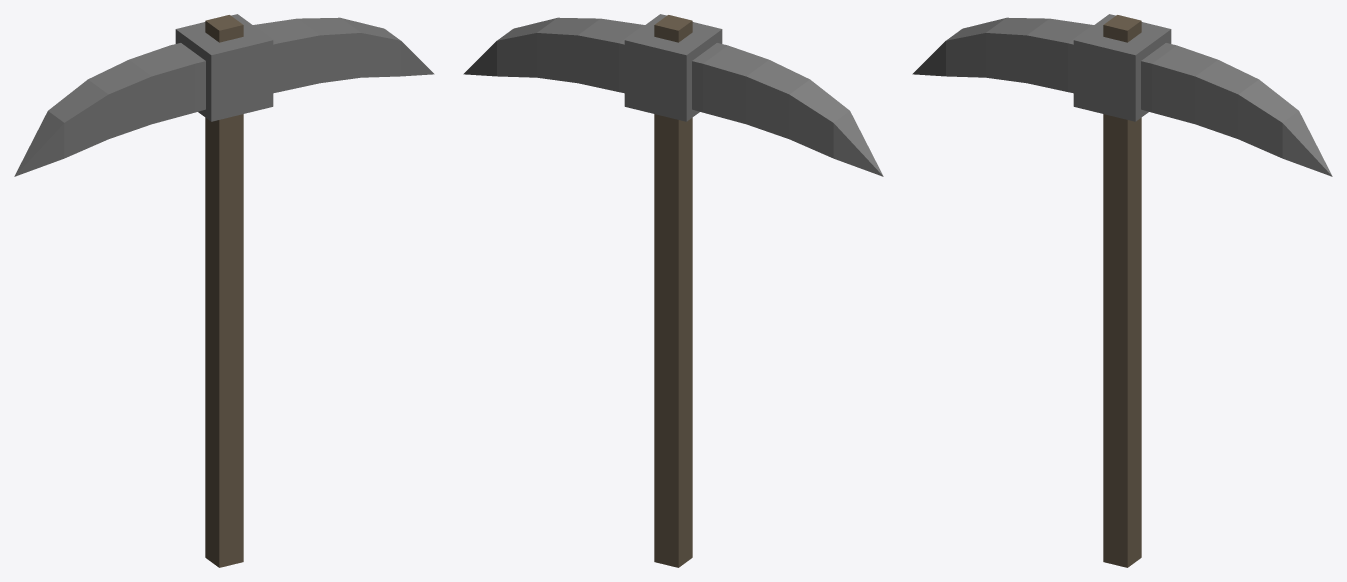
The model's file is pickaxe.obj.
3 renders of one model, left to right at view 1: azimuth 30°, elevation 25°; view 2: azimuth 150°, elevation 25°; view 3: azimuth 330°, elevation 25°, orthographic.
Parts seen in each view (by area): view 1: Cube; view 2: Cube; view 3: Cube.
Boxes of the visible parts, x1,y1,x2,y2 form: Cube: (14,14,434,567); Cube: (463,14,883,567); Cube: (912,14,1332,567).
Bounding box in the file's own units: 0.5031 × 0.6135 × 0.0741.
1 material, 1 textured.
